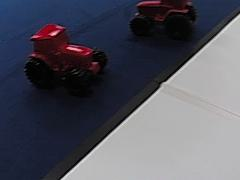Tracktor: (23, 22, 108, 90), (129, 0, 196, 37)
